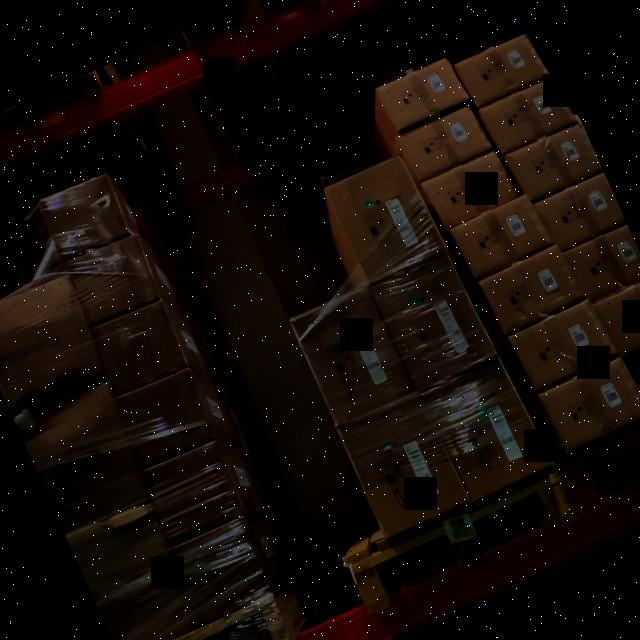box: (420, 352, 555, 502), (337, 391, 471, 539), (369, 252, 497, 390), (291, 289, 415, 423), (322, 154, 447, 282), (169, 517, 273, 625), (142, 440, 245, 546), (508, 299, 620, 392), (115, 368, 216, 470), (478, 244, 586, 336), (538, 356, 640, 452), (90, 299, 189, 397), (449, 194, 554, 281), (66, 234, 162, 328), (504, 123, 604, 203), (478, 76, 579, 155), (422, 151, 521, 231), (39, 174, 130, 260), (454, 31, 553, 110), (531, 171, 627, 250), (396, 105, 494, 181), (375, 57, 471, 131)
